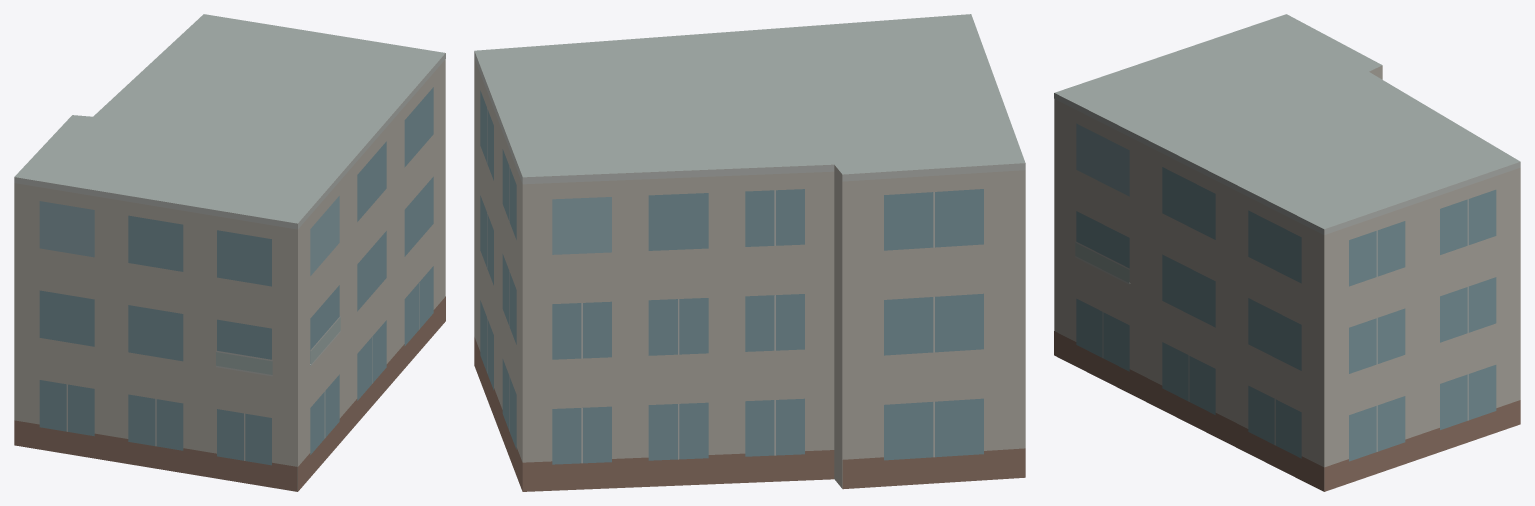
The model's file is survey-upis-32835196.glb.
The picture shows the model from 3 angles, left to right: view 1: azimuth 30°, elevation 25°; view 2: azimuth 150°, elevation 25°; view 3: azimuth 270°, elevation 25°; orthographic projection. The views are drawn at different scales.
Parts seen in each view (by area): view 1: survey-upis-32835196.tmp; view 2: survey-upis-32835196.tmp; view 3: survey-upis-32835196.tmp.
Part boxes in pixels (left/top/right/bottom): survey-upis-32835196.tmp: left=14, top=14, right=445, bottom=491; survey-upis-32835196.tmp: left=474, top=14, right=1025, bottom=491; survey-upis-32835196.tmp: left=1054, top=14, right=1520, bottom=491.
Size of the model in its own units: 19.27 by 10.95 by 17.64.
